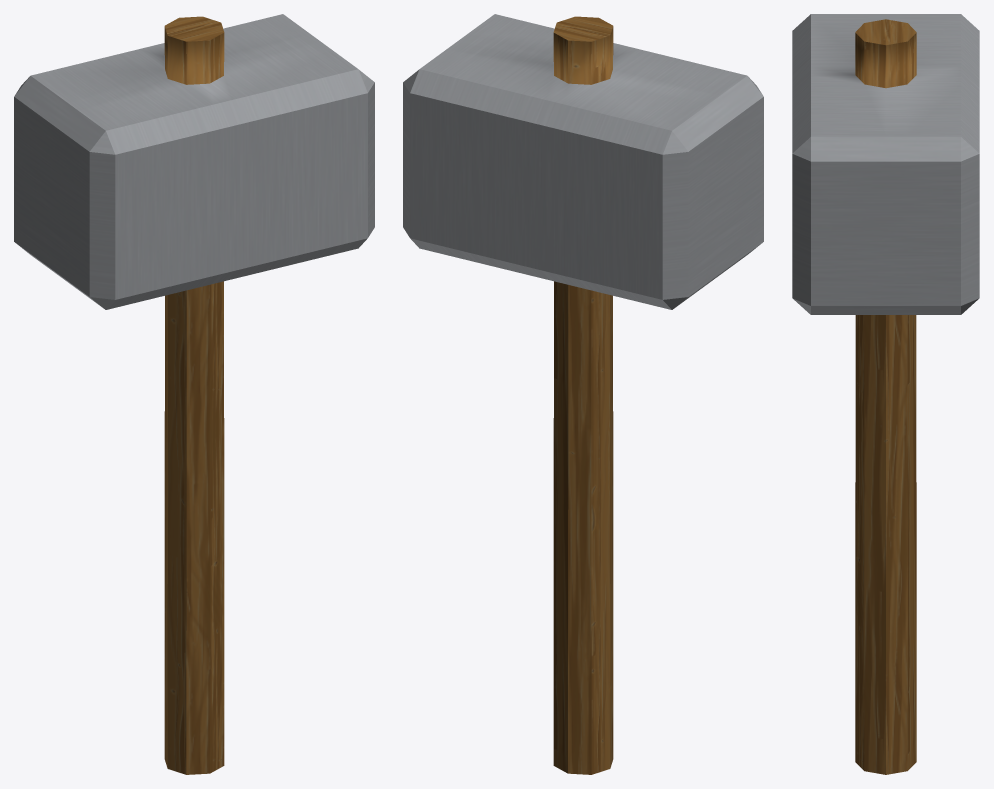
File: hammer.fbx
3 views of the same model, side by side, from view 1: azimuth 30°, elevation 25°; view 2: azimuth 150°, elevation 25°; view 3: azimuth 270°, elevation 25° (orthographic).
Parts seen in each view (by area): view 1: hammer; view 2: hammer; view 3: hammer.
Part boxes in pixels (<box>): hammer: <box>14,14,374,774</box>; hammer: <box>403,14,763,774</box>; hammer: <box>792,14,979,774</box>.
Bounding box in the file's own units: 11.77 × 28.9 × 6.73.
